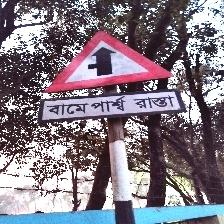Side-road-left: (40, 29, 183, 126)
